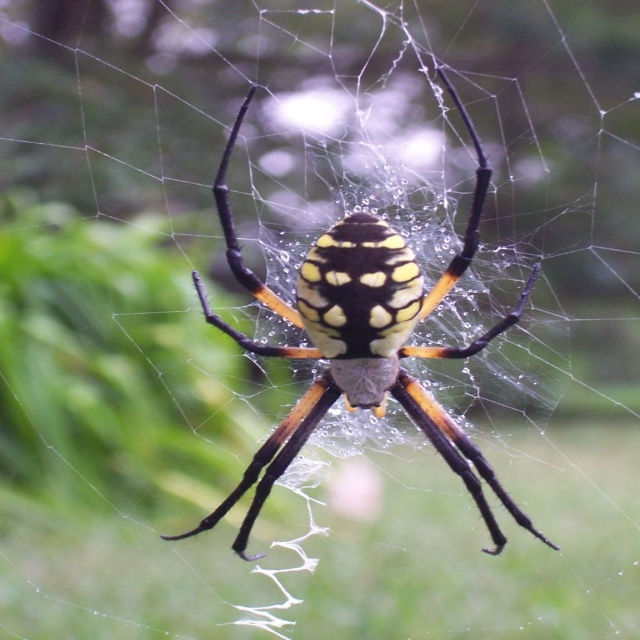Spider: (160, 66, 561, 565)
